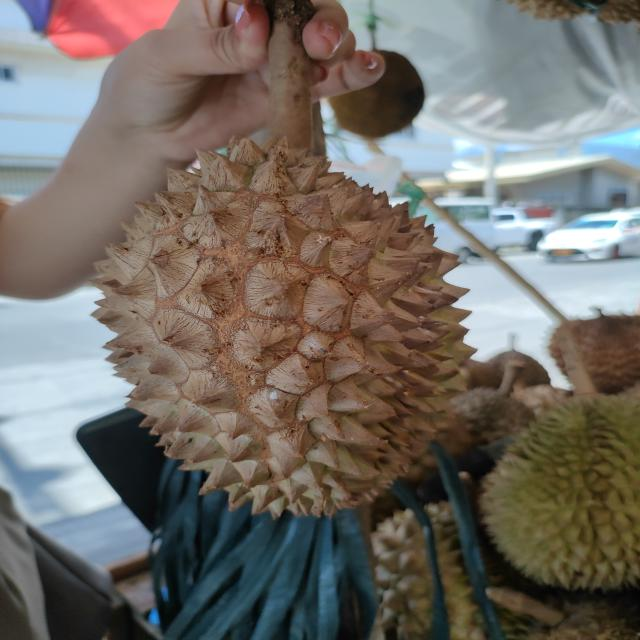mature: (81, 129, 480, 516)
